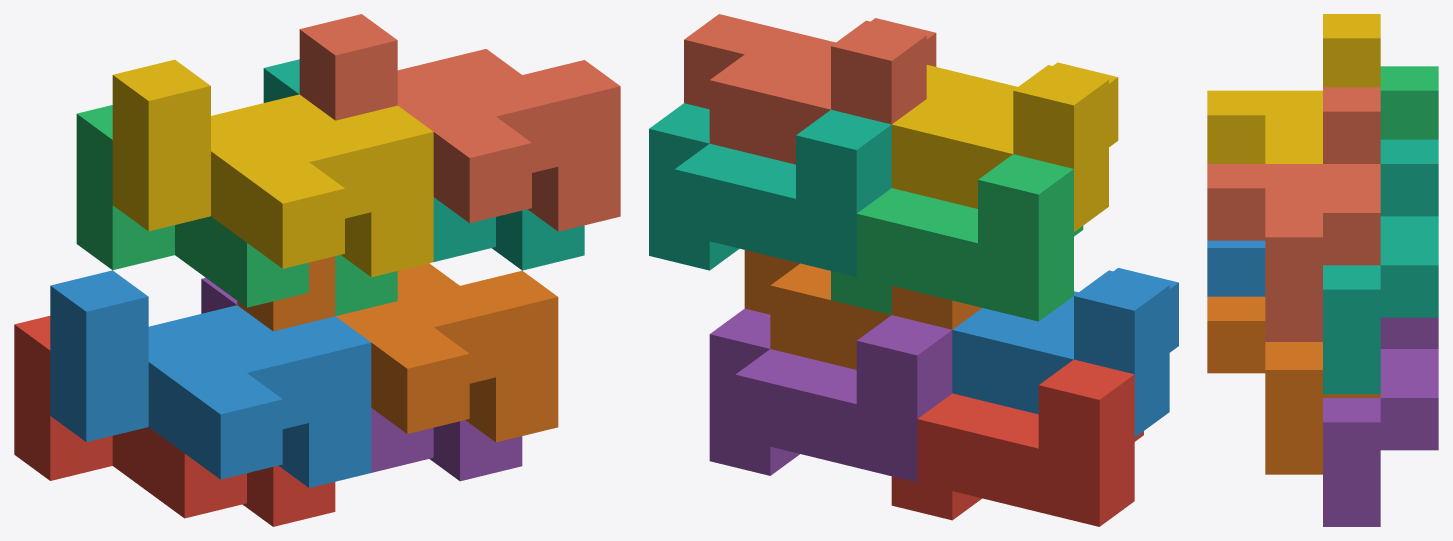
The model's file is tiling.obj.
The picture shows the model from 3 angles, left to right: view 1: azimuth 30°, elevation 25°; view 2: azimuth 150°, elevation 25°; view 3: azimuth 270°, elevation 25°; orthographic projection. The views are drawn at different scales.
Parts seen in each view (by area): view 1: copy_1_domain_2, copy_1_domain_4, copy_1_domain_8, copy_1_domain_6, copy_1_domain_1, copy_1_domain_3, copy_1_domain_7, copy_1_domain_5; view 2: copy_1_domain_5, copy_1_domain_7, copy_1_domain_1, copy_1_domain_3, copy_1_domain_8, copy_1_domain_4, copy_1_domain_2, copy_1_domain_6; view 3: copy_1_domain_8, copy_1_domain_7, copy_1_domain_5, copy_1_domain_4, copy_1_domain_6, copy_1_domain_3, copy_1_domain_2.
Part boxes in pixels (<box>): copy_1_domain_2: <box>50,270,371,487</box>; copy_1_domain_4: <box>112,59,433,277</box>; copy_1_domain_8: <box>299,14,620,231</box>; copy_1_domain_6: <box>237,256,558,442</box>; copy_1_domain_1: <box>14,316,335,526</box>; copy_1_domain_3: <box>76,105,397,316</box>; copy_1_domain_7: <box>263,59,584,270</box>; copy_1_domain_5: <box>201,277,522,481</box>; copy_1_domain_5: <box>709,308,952,482</box>; copy_1_domain_7: <box>649,103,891,276</box>; copy_1_domain_1: <box>891,359,1143,526</box>; copy_1_domain_3: <box>831,154,1083,321</box>; copy_1_domain_8: <box>684,14,936,164</box>; copy_1_domain_4: <box>891,62,1118,231</box>; copy_1_domain_2: <box>952,268,1178,437</box>; copy_1_domain_6: <box>744,250,981,369</box>; copy_1_domain_8: <box>1207,87,1380,341</box>; copy_1_domain_7: <box>1323,139,1438,394</box>; copy_1_domain_5: <box>1323,317,1438,526</box>; copy_1_domain_4: <box>1207,14,1380,163</box>; copy_1_domain_6: <box>1207,296,1380,474</box>; copy_1_domain_3: <box>1380,66,1438,139</box>; copy_1_domain_2: <box>1207,240,1265,296</box>.
Bounding box in the file's own units: 8 × 7 × 4.
